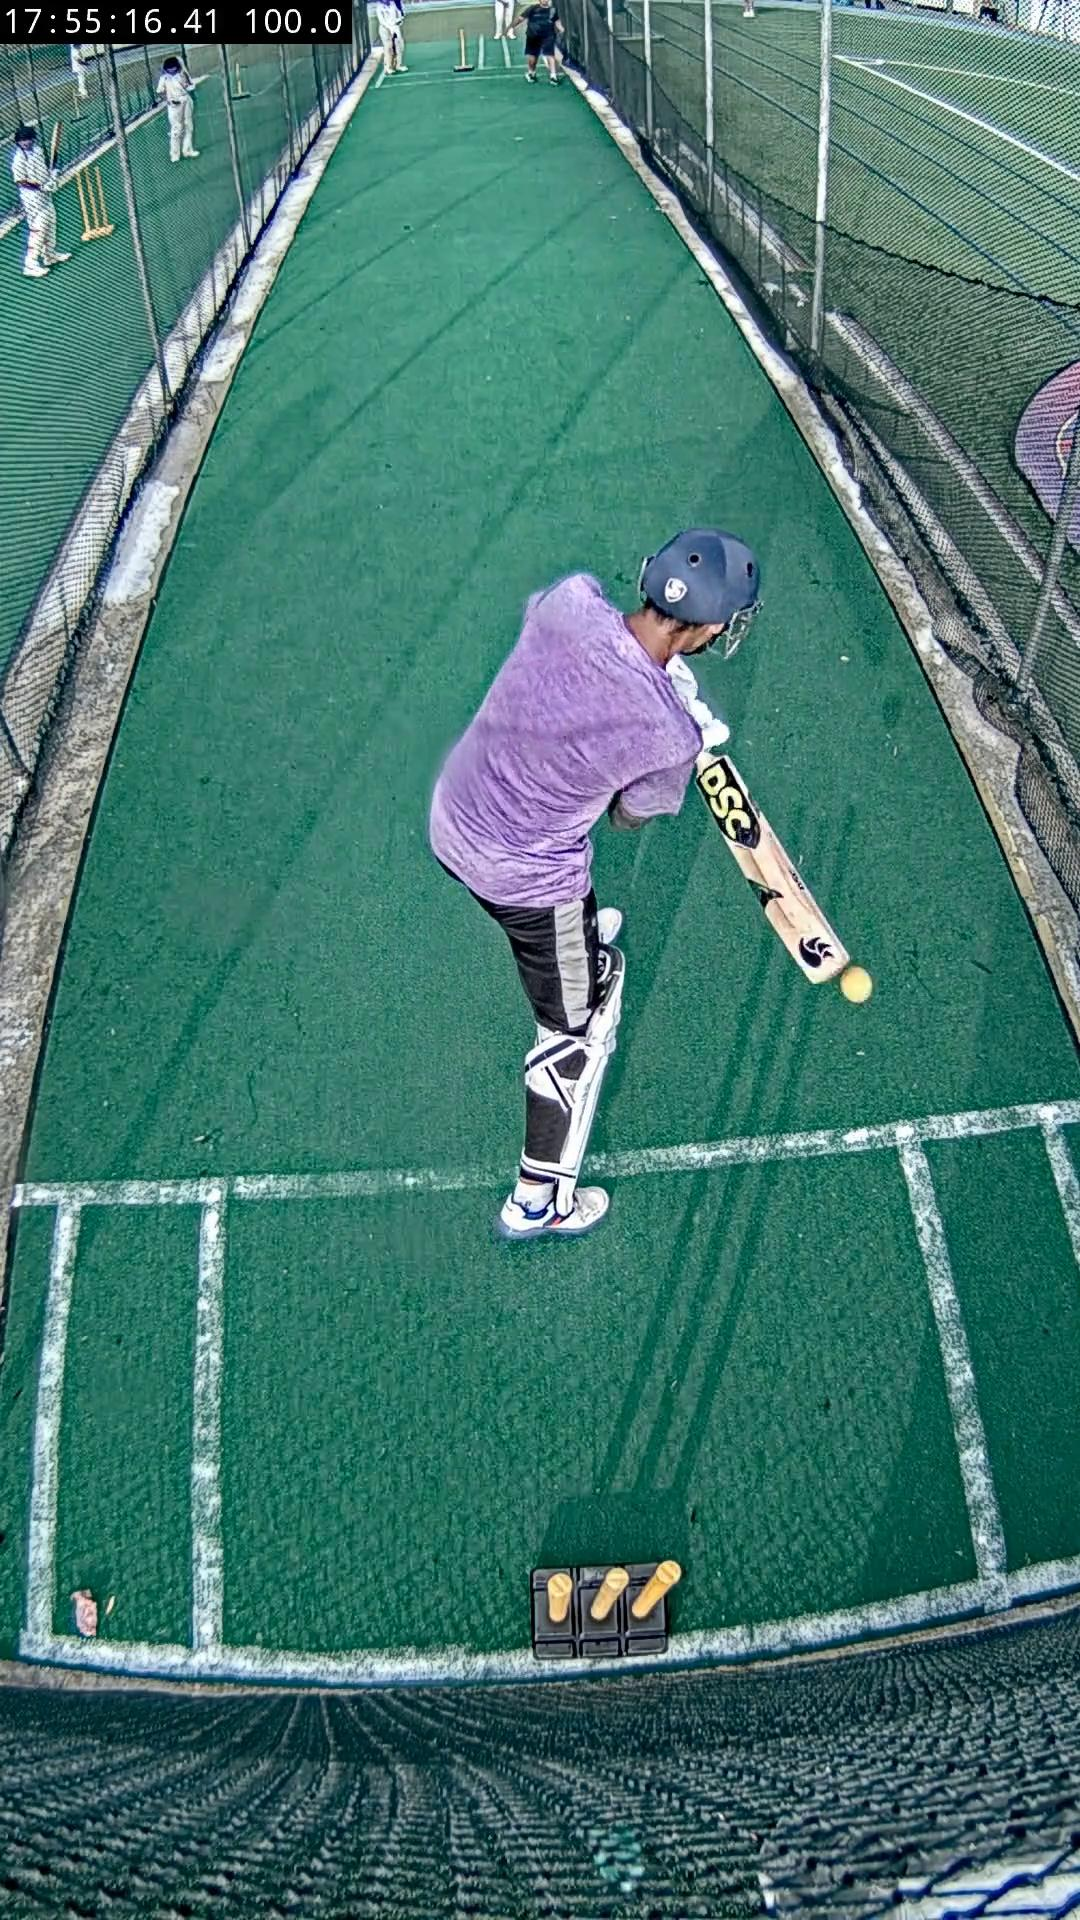ball: (855, 986, 870, 1001)
bat: (698, 750, 848, 982)
gloves: (667, 657, 732, 750)
helmet: (637, 529, 761, 657)
pads: (558, 947, 624, 1216)
stumps: (533, 1560, 683, 1662)
